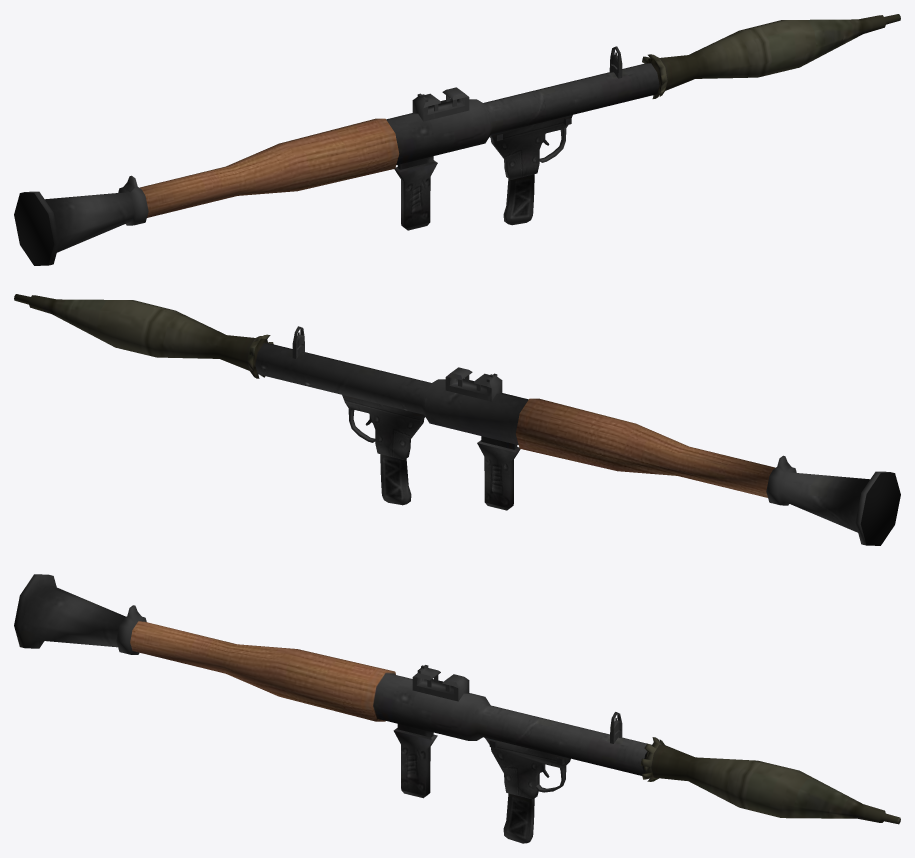
The model's file is launcher.glb.
The picture shows the model from 3 angles, top to bottom: view 1: azimuth 30°, elevation 25°; view 2: azimuth 150°, elevation 25°; view 3: azimuth 330°, elevation 25°; orthographic projection.
Visible parts, largest first — view 1: Launcher_Body, Rocket; view 2: Launcher_Body, Rocket; view 3: Launcher_Body, Rocket.
Boxes of the visible parts, box(x1,y1,x2,y2) form: Launcher_Body: box(14, 46, 659, 265); Rocket: box(642, 14, 900, 98); Launcher_Body: box(255, 326, 900, 545); Rocket: box(14, 294, 273, 378); Launcher_Body: box(14, 574, 651, 843); Rocket: box(640, 737, 900, 824).
Bounding box in the file's own units: 1.1 × 0.1854 × 0.0887.
Materials: 2 (1 with a texture image).
